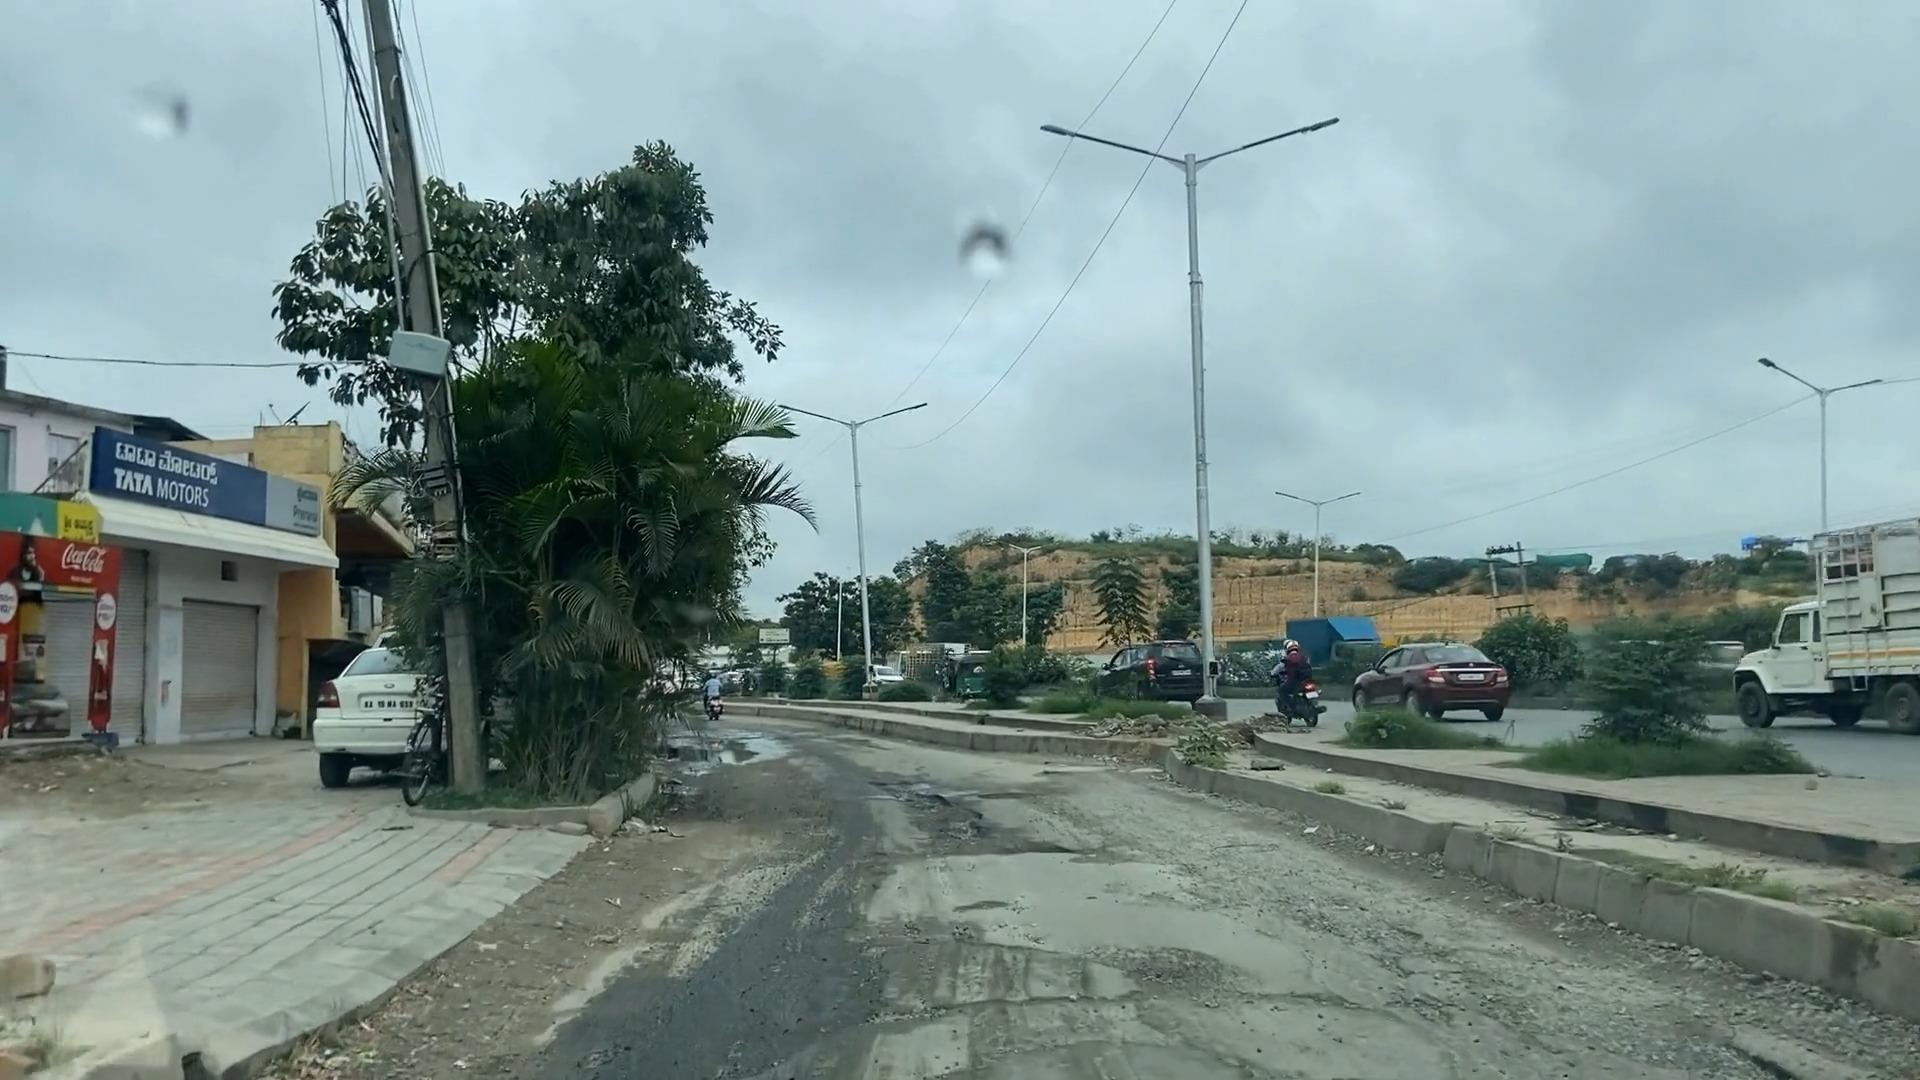RoadDamages: (1400, 949, 1851, 1080), (870, 914, 1185, 1080), (1193, 897, 1383, 1080), (852, 760, 1110, 880)
